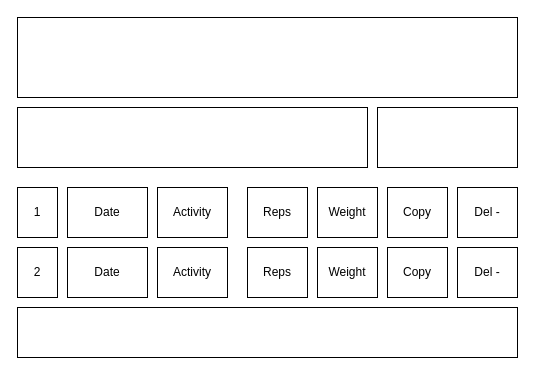
The diagram is 535 pixels wide and 375 high, and some of its shapes have lost their labels. Each missing label, with the centre of its shape:
Add +: point (267, 332)
Add new program: point (447, 137)
Choose Program - shoulders / push / pull (drop down): point (192, 137)
Nav: point (267, 57)
